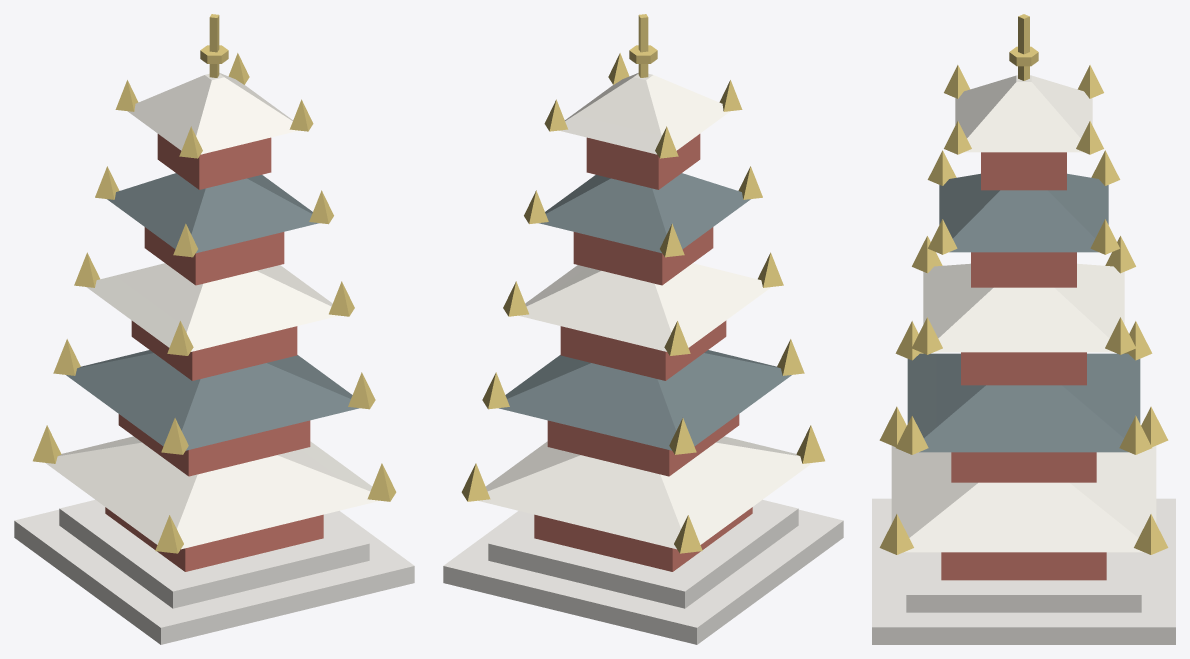
The model's file is temple.glb.
The picture shows the model from 3 angles, left to right: view 1: azimuth 30°, elevation 25°; view 2: azimuth 150°, elevation 25°; view 3: azimuth 270°, elevation 25°; orthographic projection. The views are drawn at different scales.
Visible parts, largest first — view 1: east_asian_temple; view 2: east_asian_temple; view 3: east_asian_temple.
Part boxes in pixels (box(x1,y1,x2,y2)): east_asian_temple: box(14, 14, 414, 644); east_asian_temple: box(443, 14, 843, 644); east_asian_temple: box(872, 14, 1175, 644).
Size of the model in its own units: 0.4882 by 1 by 0.4882.
